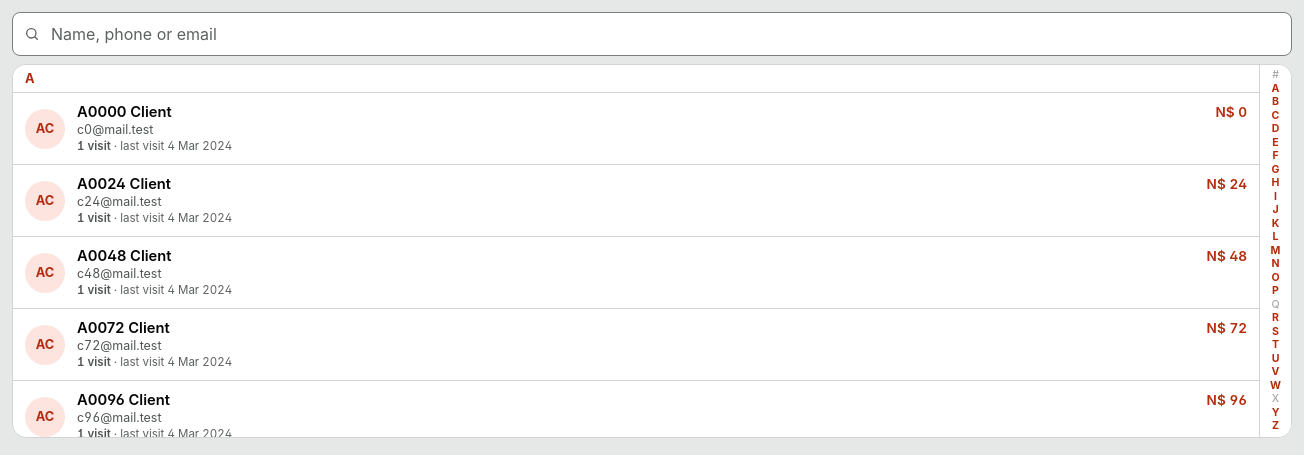
it: ClientPicker in browse mode (the Clients tab) › with a large roster › is windowed, and the rail jumps to a letter (a tap, and an empty letter to the next)
Check: the text "M0012 Client" is not shown
Click the button named "Jump to M" at coordinates (1276, 251), box [1260, 244, 1291, 258]
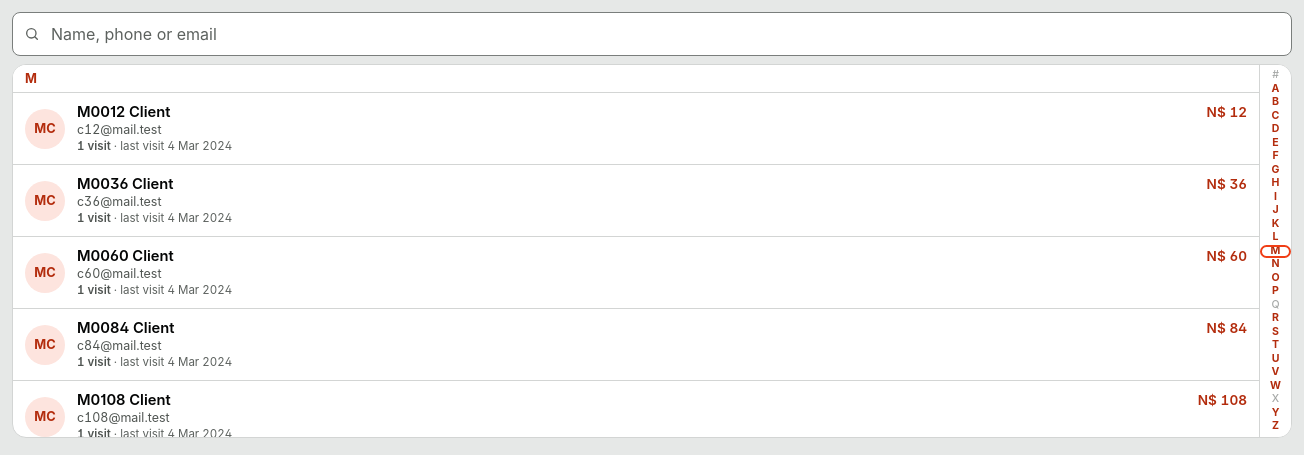
Check: the text "M0012 Client" is shown, box [77, 103, 170, 121]
Check: the element with test id "clients-spend-c12" reads "N$ 12", box [1207, 104, 1247, 120]
Click the button named "Jump to Q (no clients)" at coordinates (1276, 305), box [1260, 298, 1291, 312]
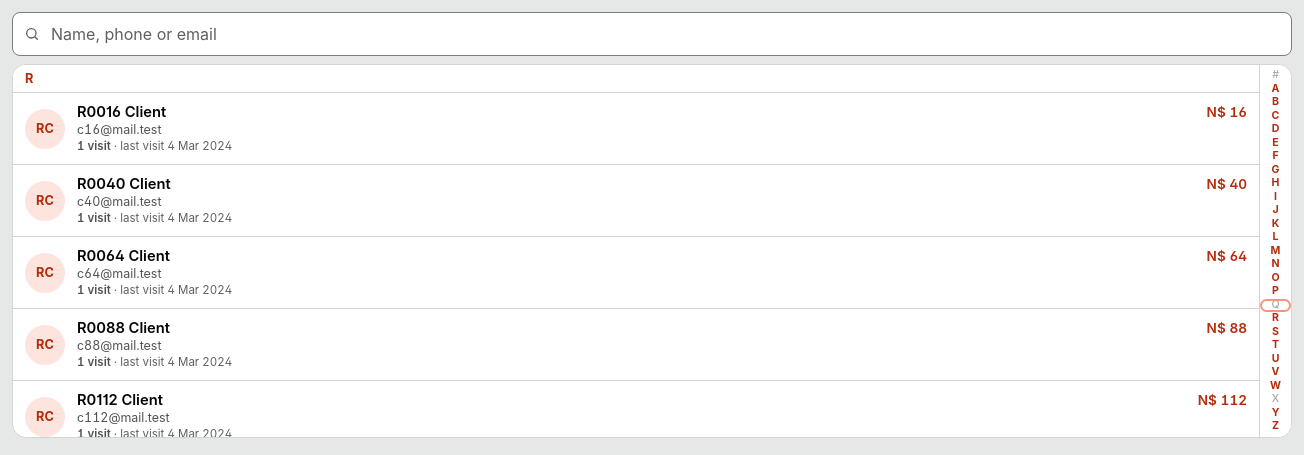
Check: the text "R0016 Client" is shown, box [77, 103, 166, 121]
